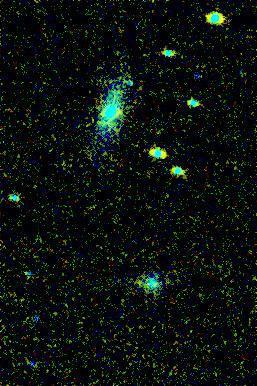star: (88, 106, 118, 136)
